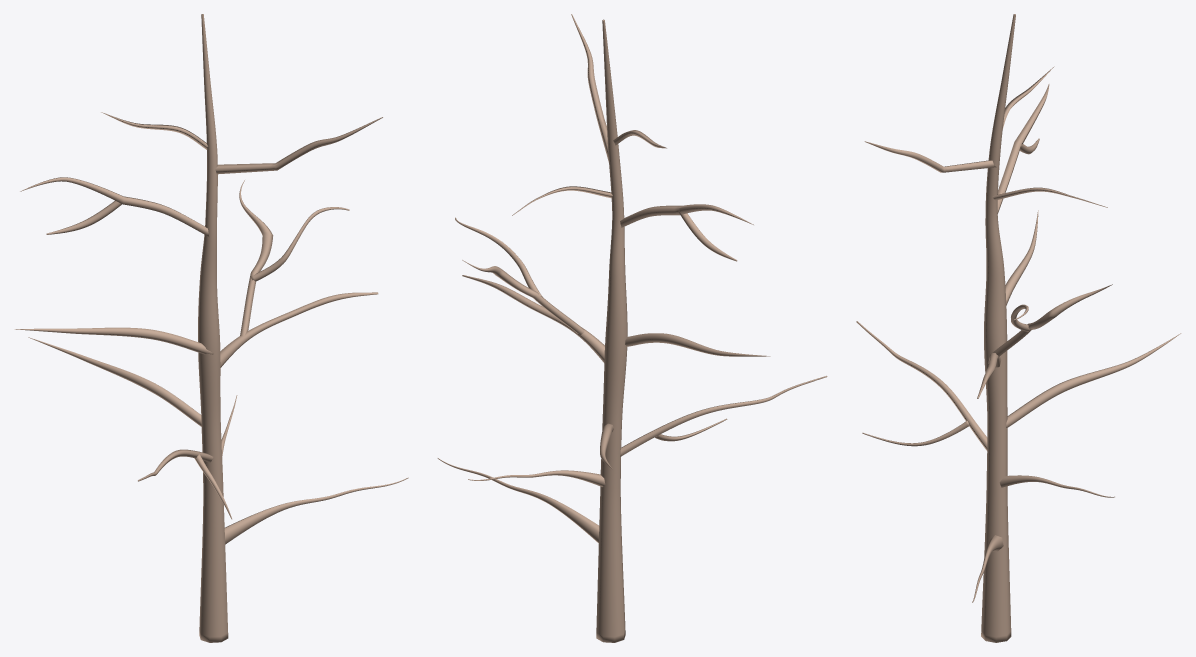
Rendered from pine_tree03.fbx.
The picture shows the model from 3 angles, left to right: view 1: azimuth 30°, elevation 25°; view 2: azimuth 150°, elevation 25°; view 3: azimuth 270°, elevation 25°; orthographic projection.
Visible parts, largest first — view 1: tree, branch; view 2: tree, branch; view 3: tree.
Part boxes in pixels (left/top/right/bottom): tree: left=14, top=14, right=382, bottom=642; branch: left=224, top=477, right=408, bottom=544; tree: left=455, top=14, right=827, bottom=642; branch: left=437, top=458, right=599, bottom=543; tree: left=856, top=14, right=1181, bottom=642.
Bounding box in the file's own units: 318 × 518 × 246.
